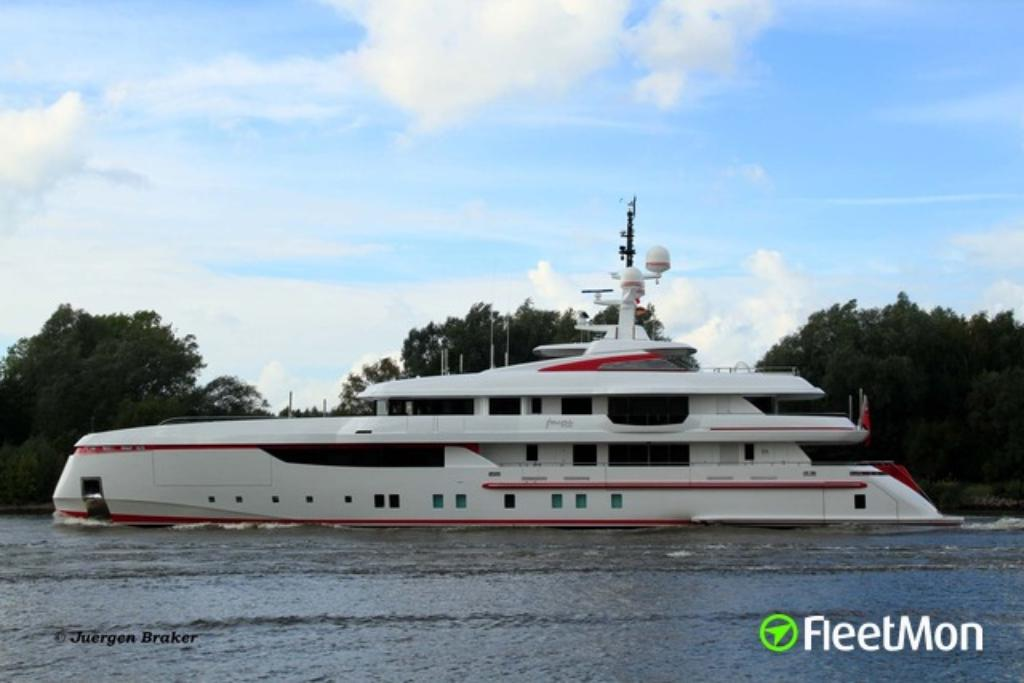PassengerShip: (54, 196, 966, 528)
